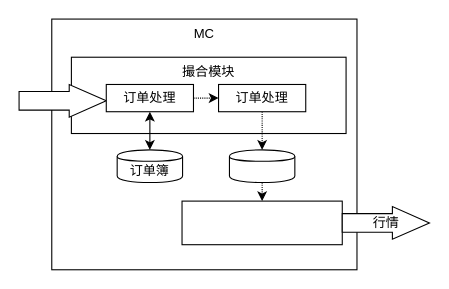
This 449x289 diagram has some shape labels left out. The centre of each missing label's shape, as x and y in pixels:
待发行情: the point at 261,166
行情发送模块: the point at 261,222
订单: the point at 62,100
